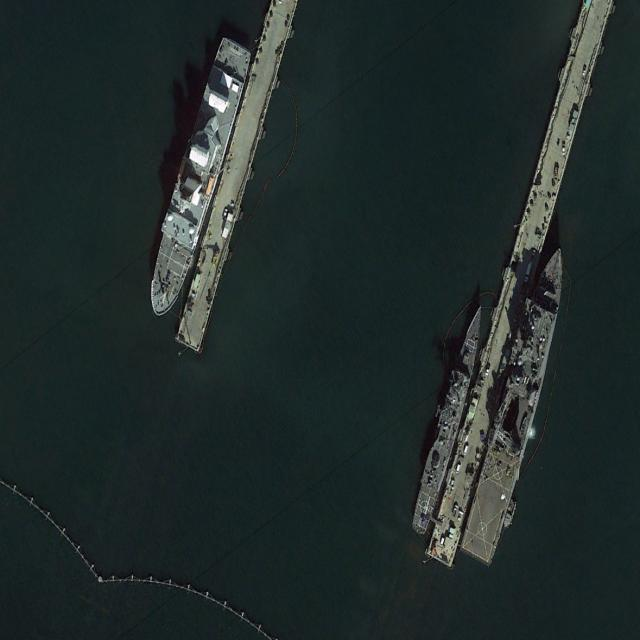Frigate: (405, 296, 492, 539)
Landing: (458, 238, 577, 566)
Other Ship: (139, 33, 254, 325)
